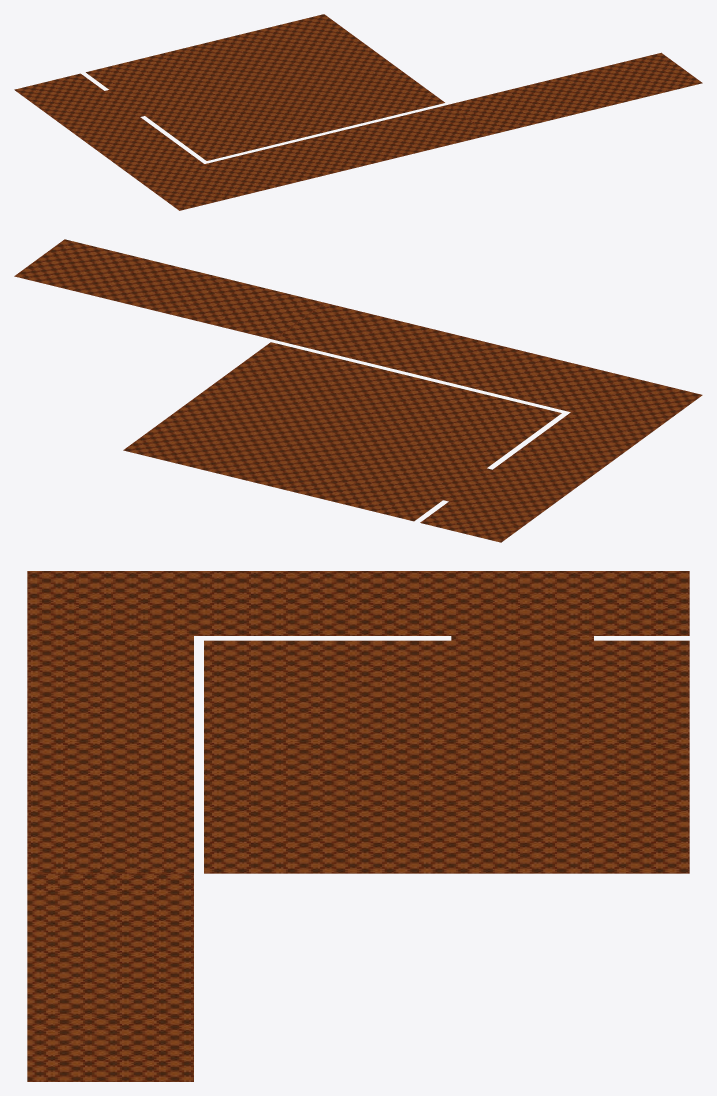
The model's file is CarpetFloor.fbx.
3 views of the same model, one above another, from view 1: azimuth 30°, elevation 25°; view 2: azimuth 150°, elevation 25°; view 3: azimuth 270°, elevation 25° (orthographic). The views are drawn at different scales.
Parts seen in each view (by area): view 1: Carpet; view 2: Carpet; view 3: Carpet.
Boxes of the visible parts, box(x1,y1,x2,y2) form: Carpet: box(14, 14, 702, 210); Carpet: box(14, 239, 702, 542); Carpet: box(27, 571, 689, 1081).
Size of the model in its own units: 6641 by 0.000593 by 3637.
Materials: 1 (1 with a texture image).
